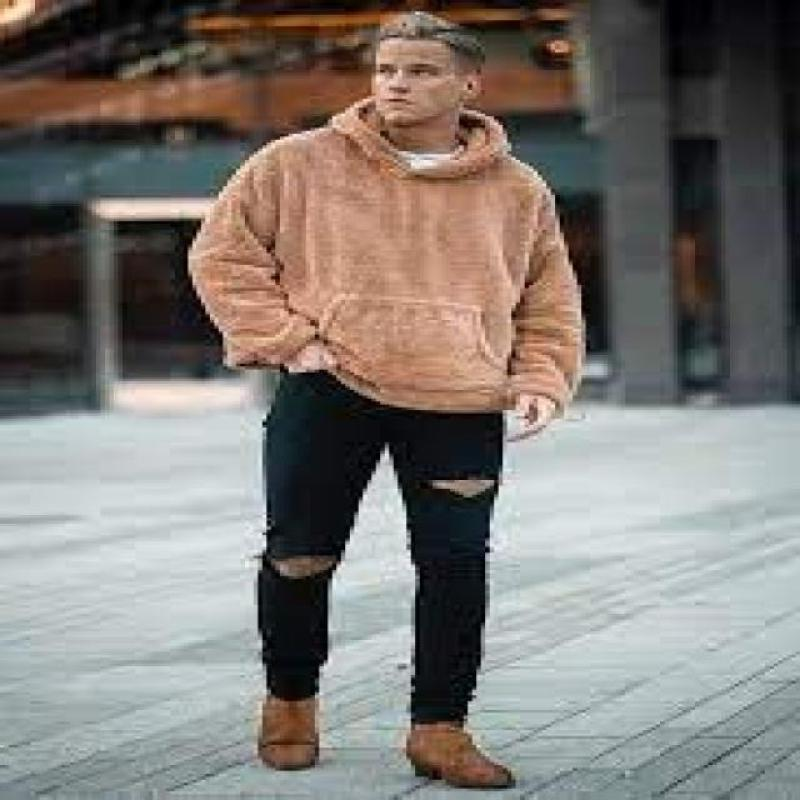sweater: (183, 93, 590, 419)
trousers: (247, 363, 505, 726)
